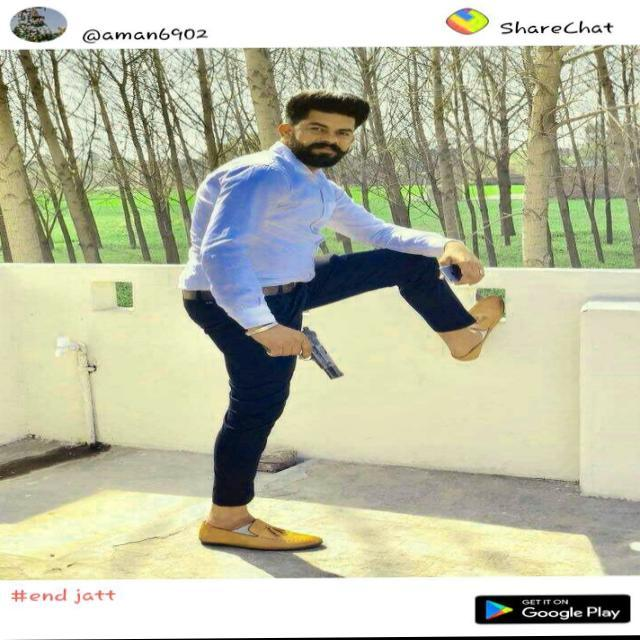weapon: (260, 326, 346, 381)
